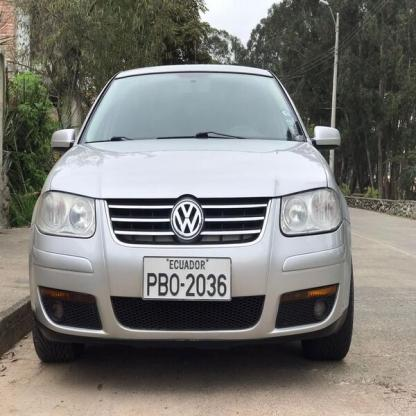Placa: (140, 253, 236, 305)
